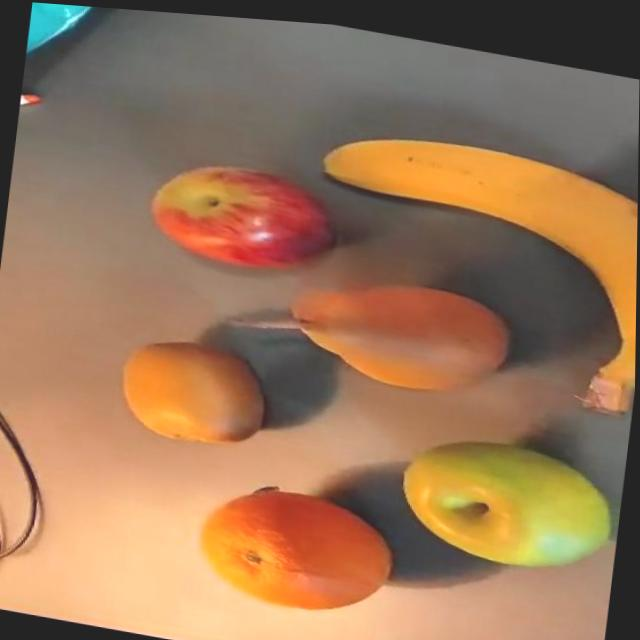Apple: (396, 420, 618, 575), (145, 148, 341, 280)
Banana: (301, 112, 639, 346)
Orange: (190, 467, 401, 622)
